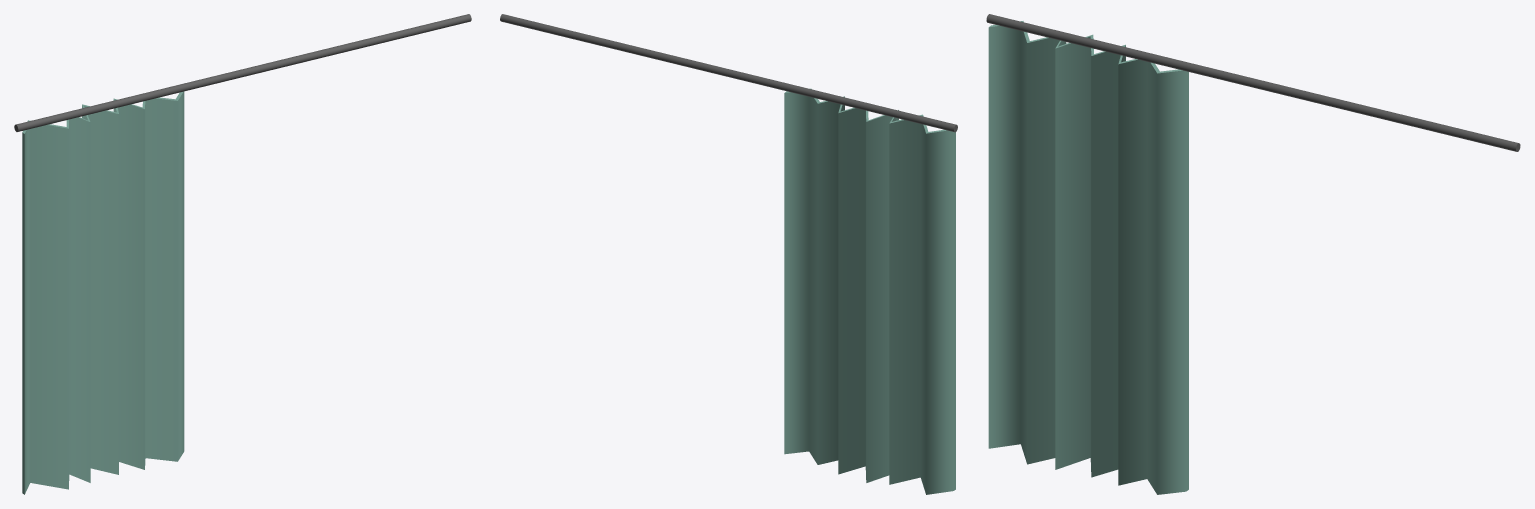
Rendered from Shower_Curtain.fbx.
The picture shows the model from 3 angles, left to right: view 1: azimuth 30°, elevation 25°; view 2: azimuth 150°, elevation 25°; view 3: azimuth 330°, elevation 25°; orthographic projection. The views are drawn at different scales.
Visible parts, largest first — view 1: Shower_Curtain; view 2: Shower_Curtain; view 3: Shower_Curtain.
Part boxes in pixels (box(x1,y1,x2,y2)): Shower_Curtain: box(14, 14, 471, 494); Shower_Curtain: box(500, 14, 957, 494); Shower_Curtain: box(986, 14, 1520, 494).
Size of the model in its own units: 2.25 by 1.74 by 0.1872.
